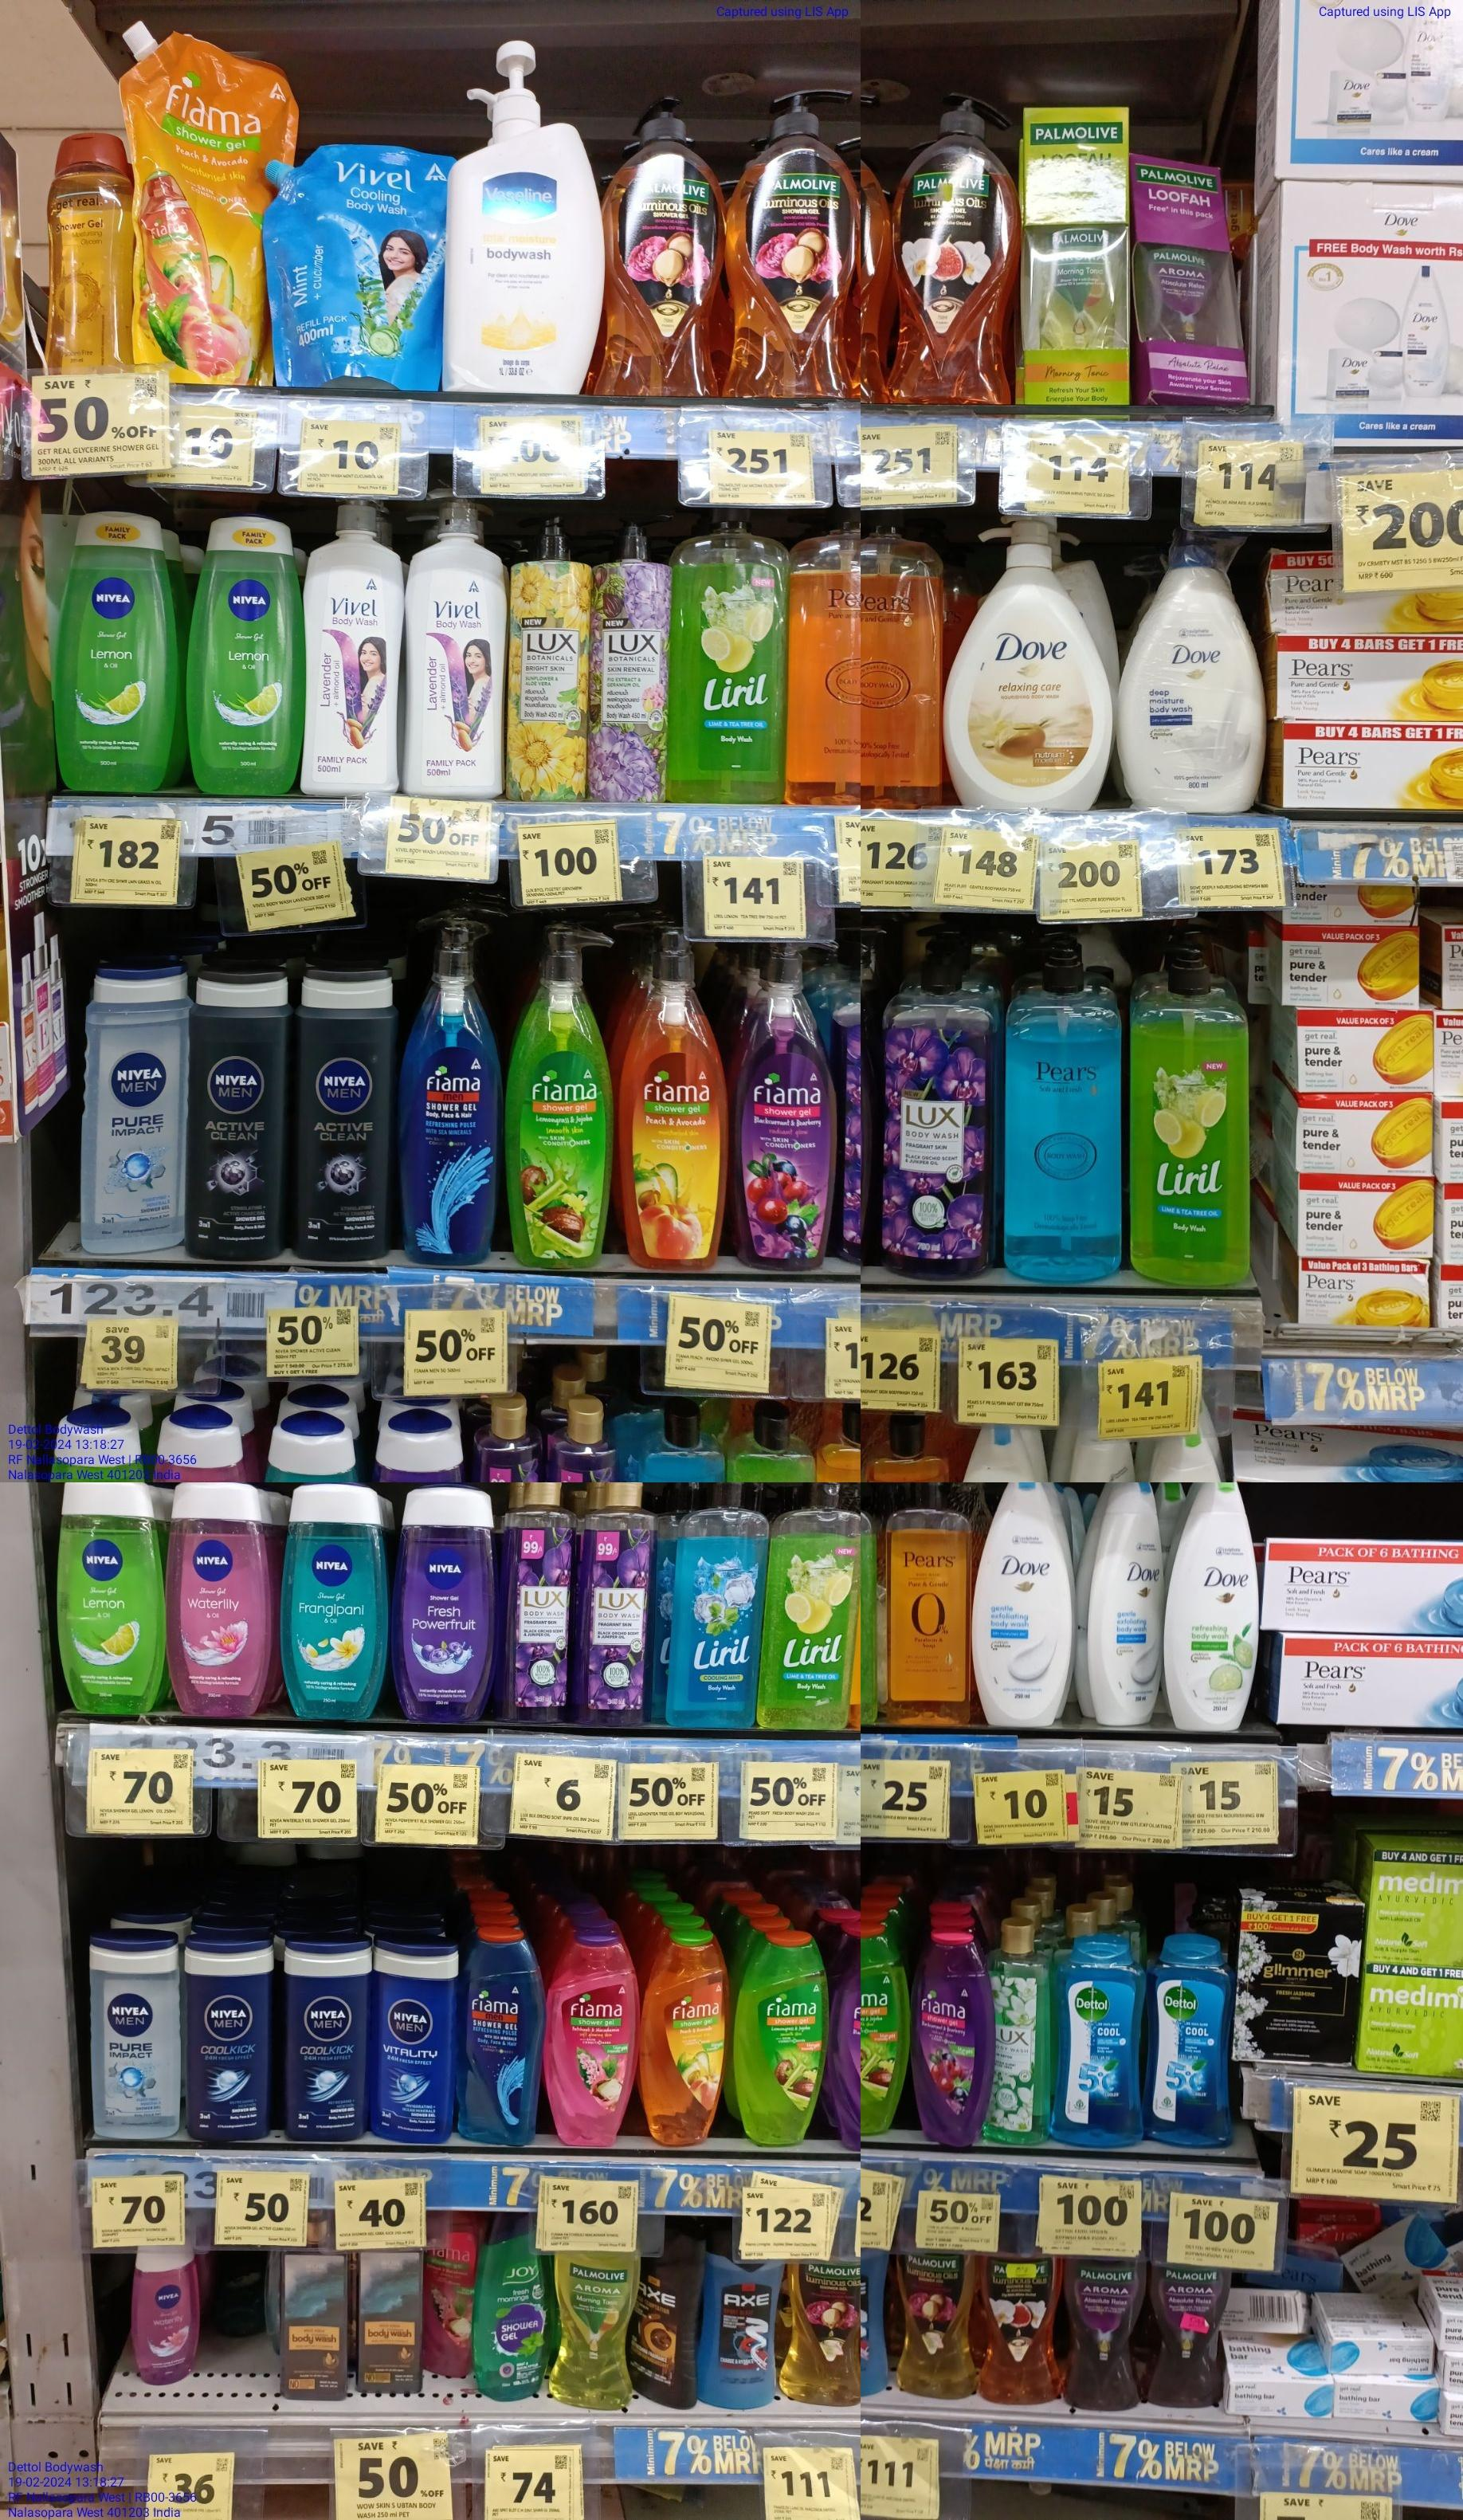Dettol_Bodywash_Cool: (1054, 1937, 1144, 2142), (1148, 1938, 1235, 2146)
Dove_Gentle_Exfoliating_Body_Wash_250ML: (977, 1484, 1071, 1722), (1087, 1473, 1162, 1722)
Dove_Refreshing_Body_Wash_250ML: (1174, 1484, 1261, 1731)
Fiama_Shower_Gel_Lemongrass_and_Jojoba_250ML: (740, 1933, 826, 2139)
Fiama_Shower_Gel_Patchouli_and_Macadamia_250ML: (549, 1940, 637, 2140)
Fiama_Shower_Gel_Peach_and_Avocado_250ML: (644, 1937, 737, 2142)
Lux_Black_Orchid_Scent_and_Juniper_Oil_Body_Wash_245ML: (505, 1473, 576, 1712), (582, 1475, 644, 1721)
Nivea_Shower_Gel_Frangipani_and_Oil_250ML: (280, 1472, 395, 1721)
Nivea_Shower_Gel_Fresh_Powerfruit_250ML: (394, 1491, 486, 1719)
Nivea_Shower_Gel_Lemon_and_Oil_250ML: (56, 1480, 176, 1712)
Nivea_Shower_Gel_Waterlily_and_Oil_250ML: (165, 1486, 279, 1712)
